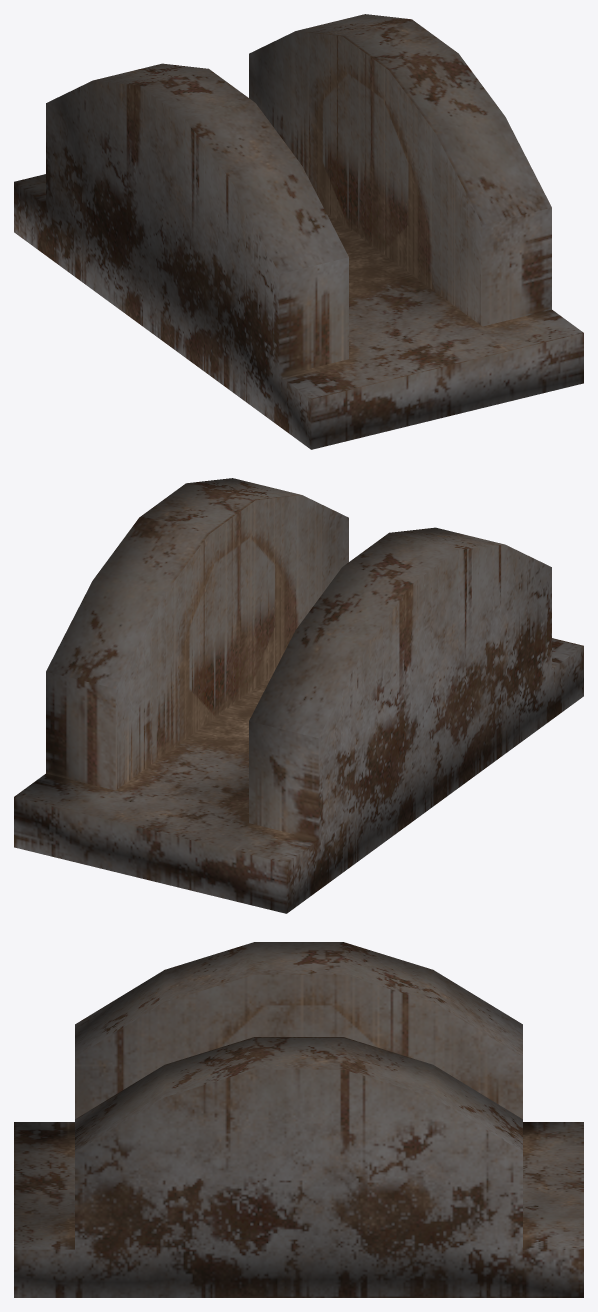
File: BaseInterruptor.obj
3 renders of one model, top to bottom at view 1: azimuth 30°, elevation 25°; view 2: azimuth 150°, elevation 25°; view 3: azimuth 270°, elevation 25°, orthographic. The views are drawn at different scales.
Visible parts, largest first — view 1: BaseInterruptor; view 2: BaseInterruptor; view 3: BaseInterruptor.
Part boxes in pixels (x1,y1,x2,y2): BaseInterruptor: (14,14,583,449); BaseInterruptor: (14,478,583,913); BaseInterruptor: (14,942,583,1297).
Size of the model in its own units: 2.5 by 2.08 by 4.72.
Materials: 1 (1 with a texture image).
